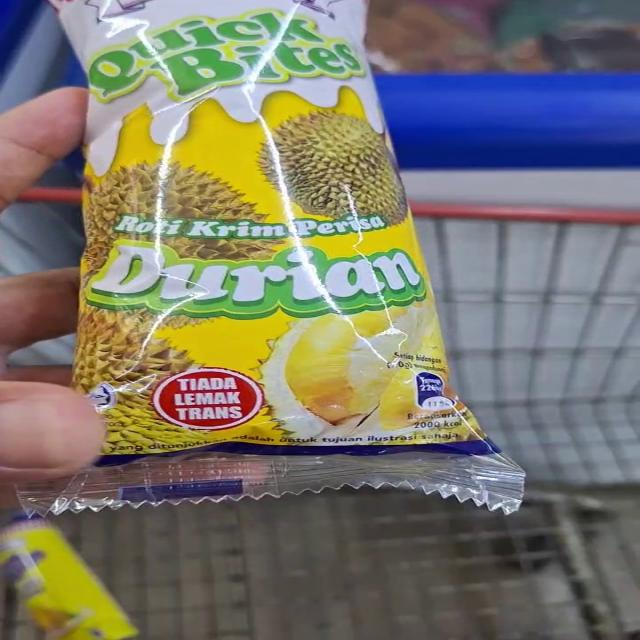Roti: (42, 0, 550, 532), (0, 522, 170, 640)
